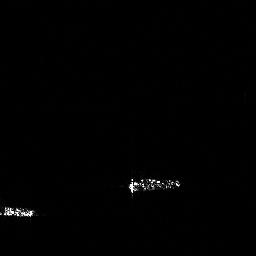ship: (126, 176, 183, 195), (1, 205, 37, 218)
